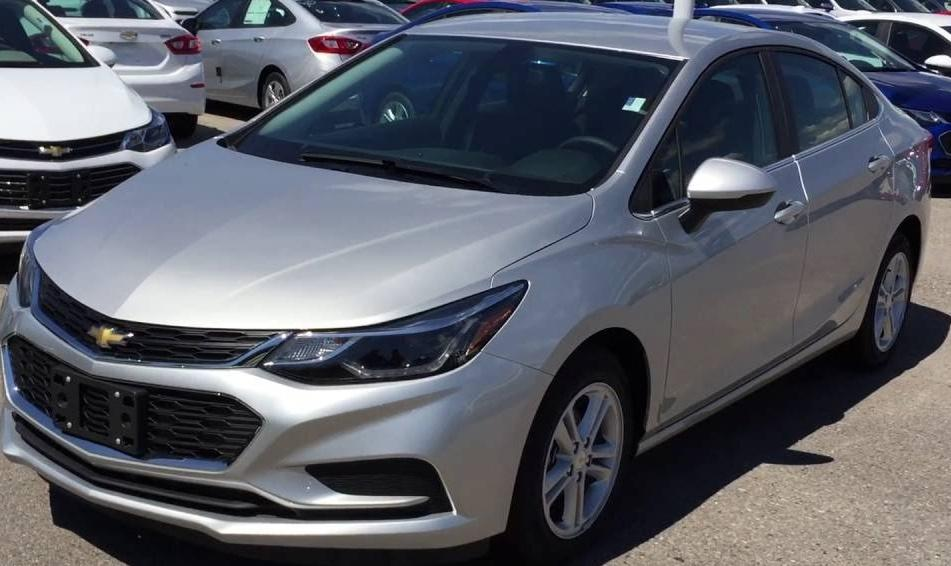Cars: (3, 7, 932, 558)
